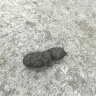Dog: (23, 47, 67, 69)
